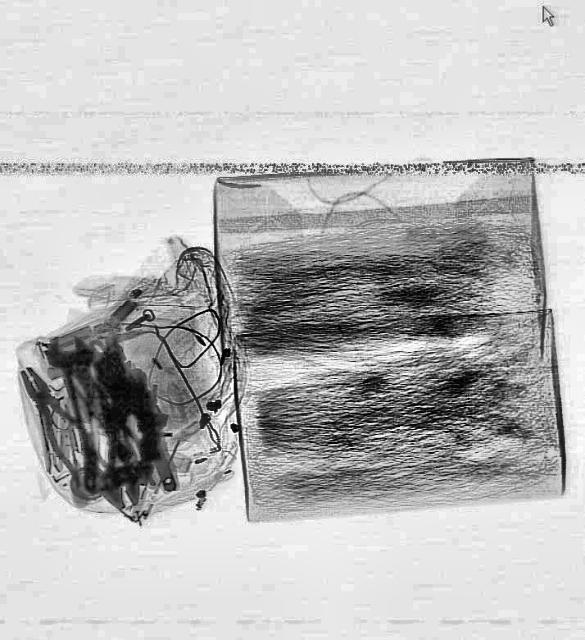Pliers: (5, 357, 115, 493)
Wrench: (40, 323, 146, 465)
